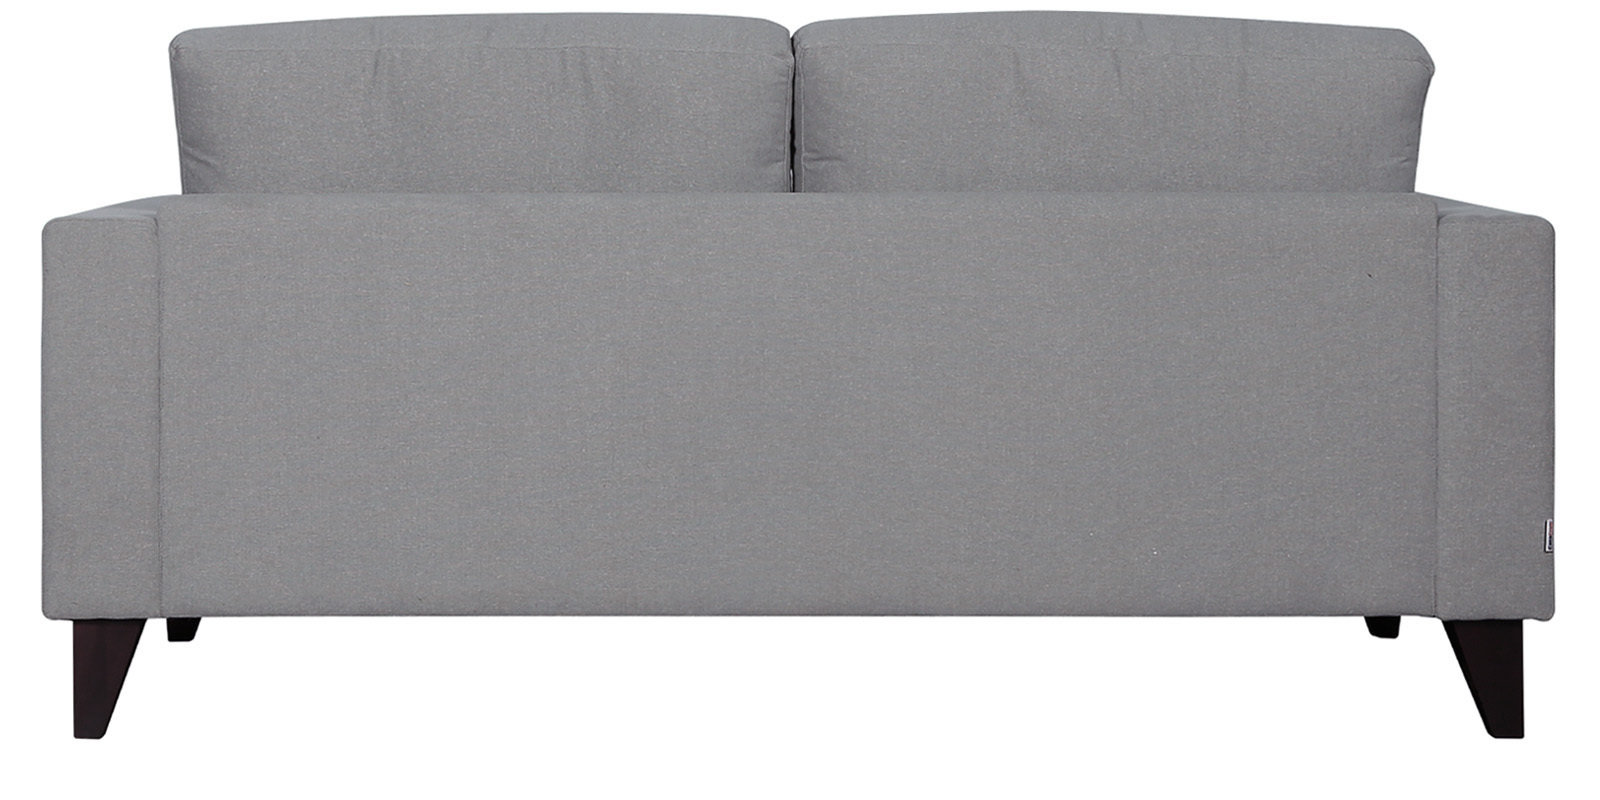Alfredo Three Seater Sofa in Ash Grey Colour by CasaCraft: (28, 5, 1573, 754)
